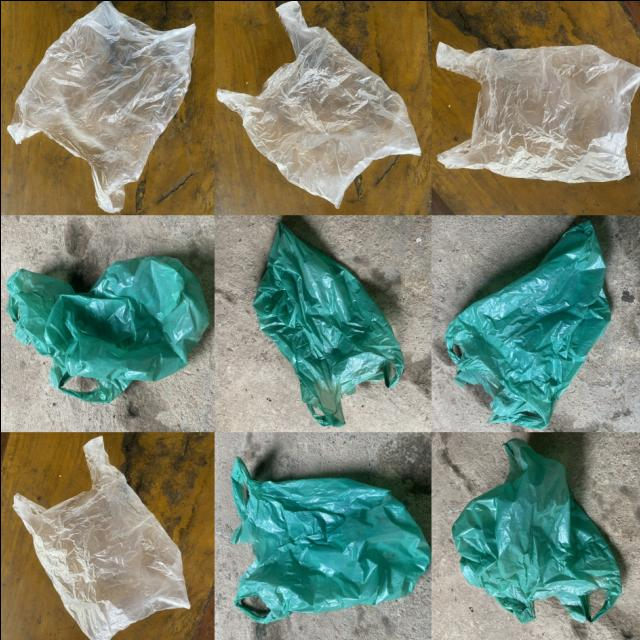plastik: (217, 0, 420, 206), (7, 0, 195, 211), (12, 436, 189, 640), (444, 221, 609, 428), (231, 456, 430, 622), (452, 438, 621, 621), (252, 221, 402, 426), (6, 255, 209, 402), (435, 42, 640, 181)
